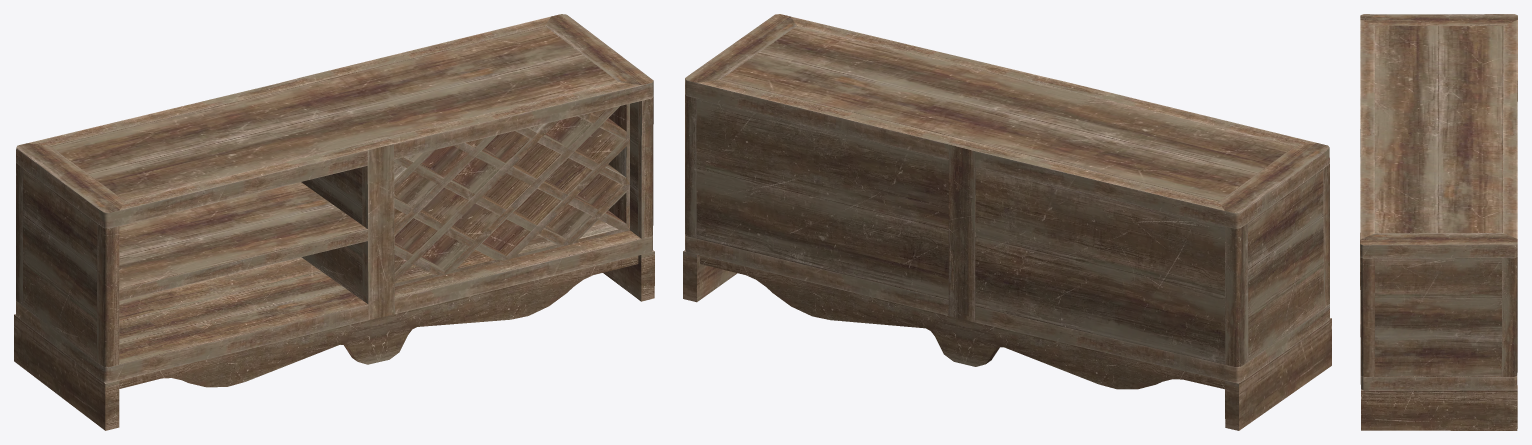
The picture shows the model from 3 angles, left to right: view 1: azimuth 30°, elevation 25°; view 2: azimuth 150°, elevation 25°; view 3: azimuth 270°, elevation 25°; orthographic projection. The views are drawn at different scales.
Visible parts, largest first — view 1: SM_DR_smallshelf_03_LOD0; view 2: SM_DR_smallshelf_03_LOD0; view 3: SM_DR_smallshelf_03_LOD0.
Part boxes in pixels (box(x1,y1,x2,y2)): SM_DR_smallshelf_03_LOD0: box(14, 14, 654, 430); SM_DR_smallshelf_03_LOD0: box(683, 14, 1331, 430); SM_DR_smallshelf_03_LOD0: box(1360, 14, 1517, 430).
Bounding box in the file's own units: 2.43 × 0.9221 × 0.704.
Materials: 1 (1 with a texture image).
